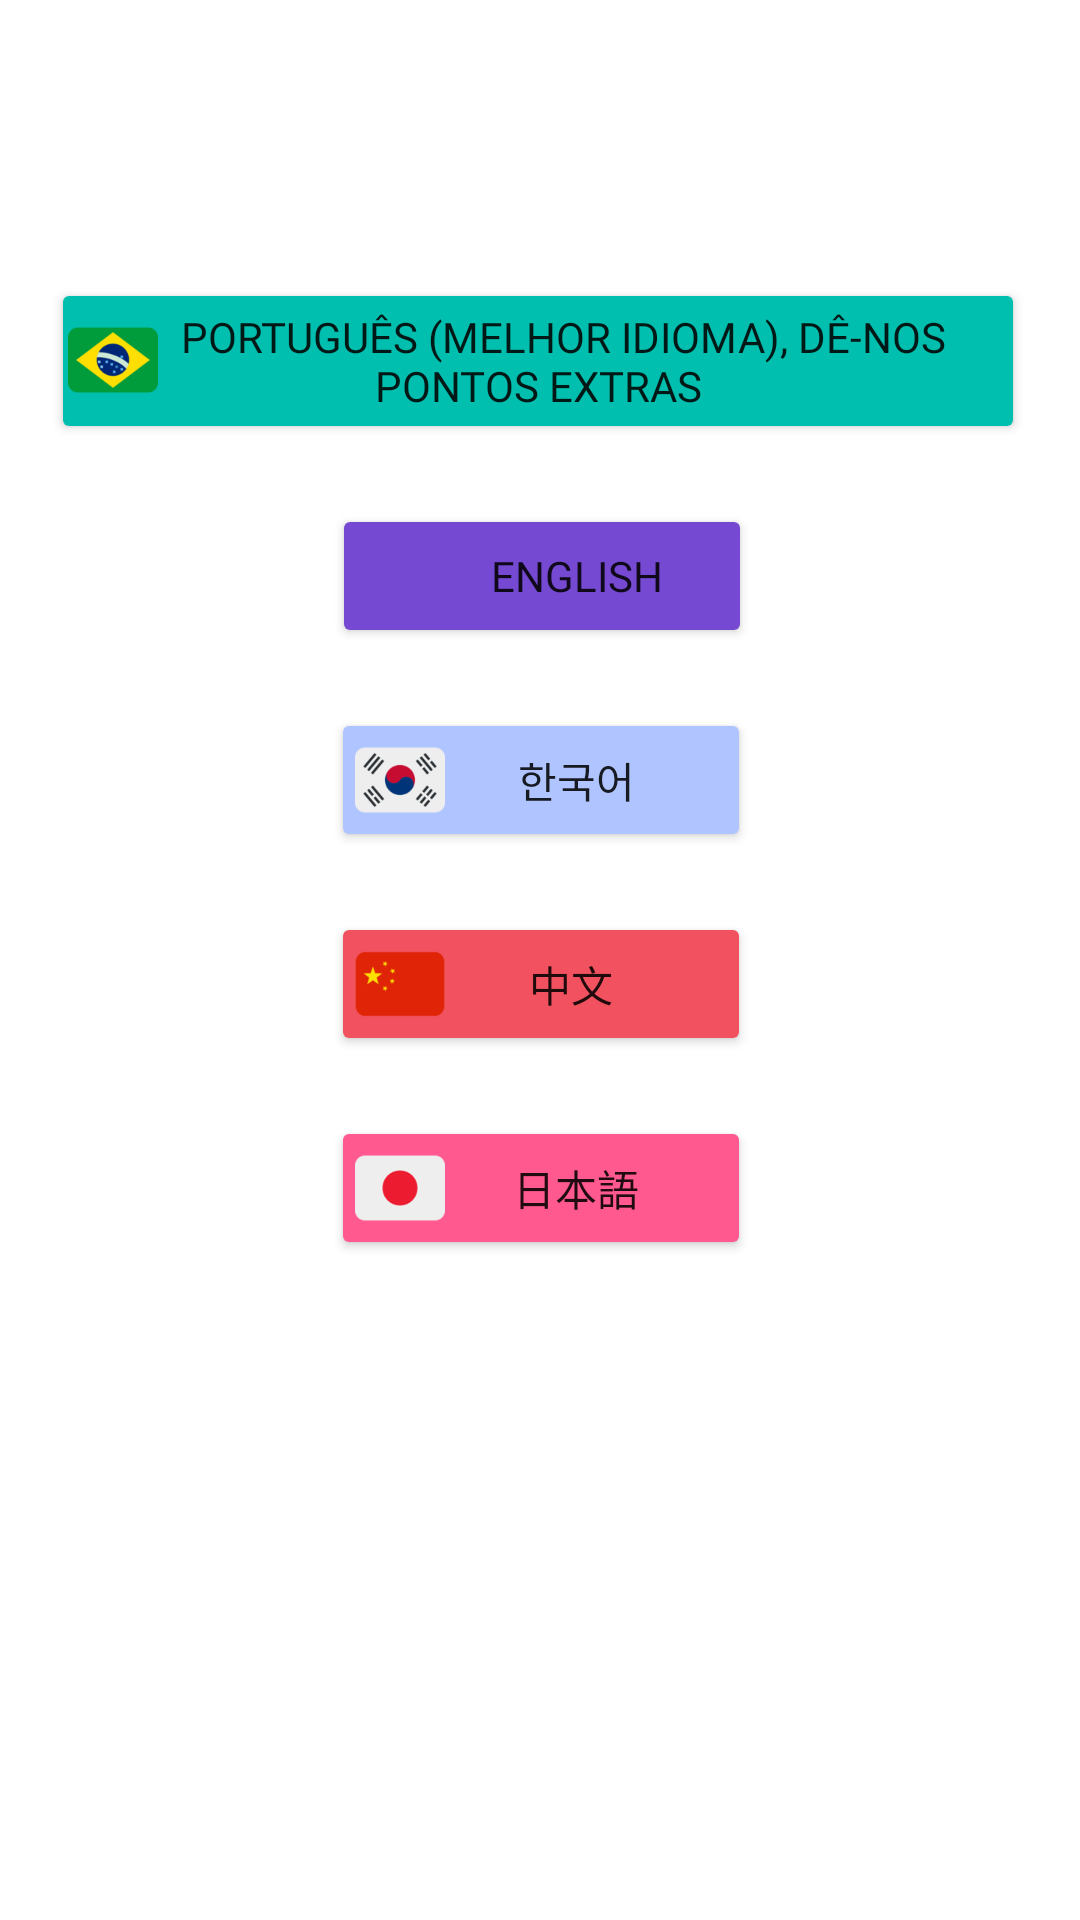

Locate icon controls on the screen. Image size 1080*1920, boxes as (x1,y1,x2,y2).
brazil: (68,327,158,393)
china: (355,952,445,1016)
japan: (355,1155,445,1221)
korea: (355,747,445,813)
